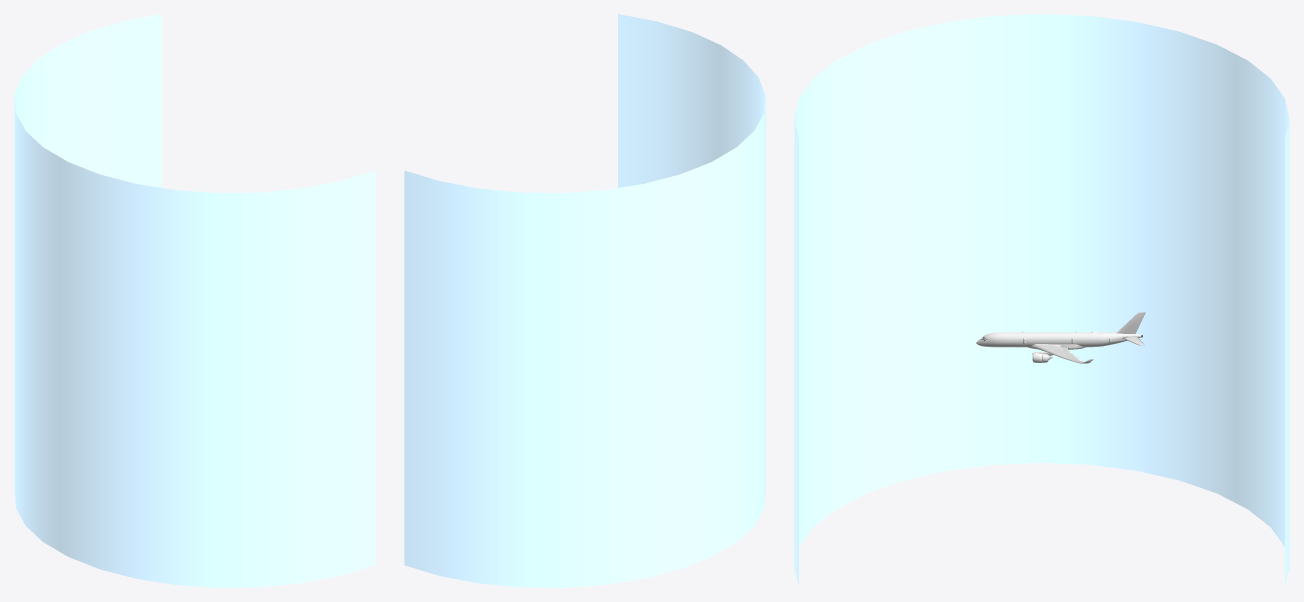
File: airbus_A350-900.glb
The picture shows the model from 3 angles, left to right: view 1: azimuth 30°, elevation 25°; view 2: azimuth 150°, elevation 25°; view 3: azimuth 270°, elevation 25°; orthographic projection. The views are drawn at different scales.
Parts seen in each view (by area): view 1: Cylinder; view 2: Cylinder; view 3: Cylinder, fuselage.
Part boxes in pixels (<box>): Cylinder: <box>14,14,375,587</box>; Cylinder: <box>404,14,765,587</box>; Cylinder: <box>794,14,1289,586</box>; fuselage: <box>976,331,1141,347</box>.
Size of the model in its own units: 39.11 by 58.98 by 58.98.
